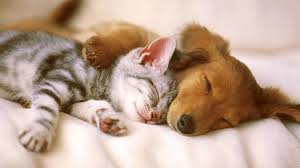cat: (107, 35, 182, 131)
dog: (164, 22, 300, 141)
